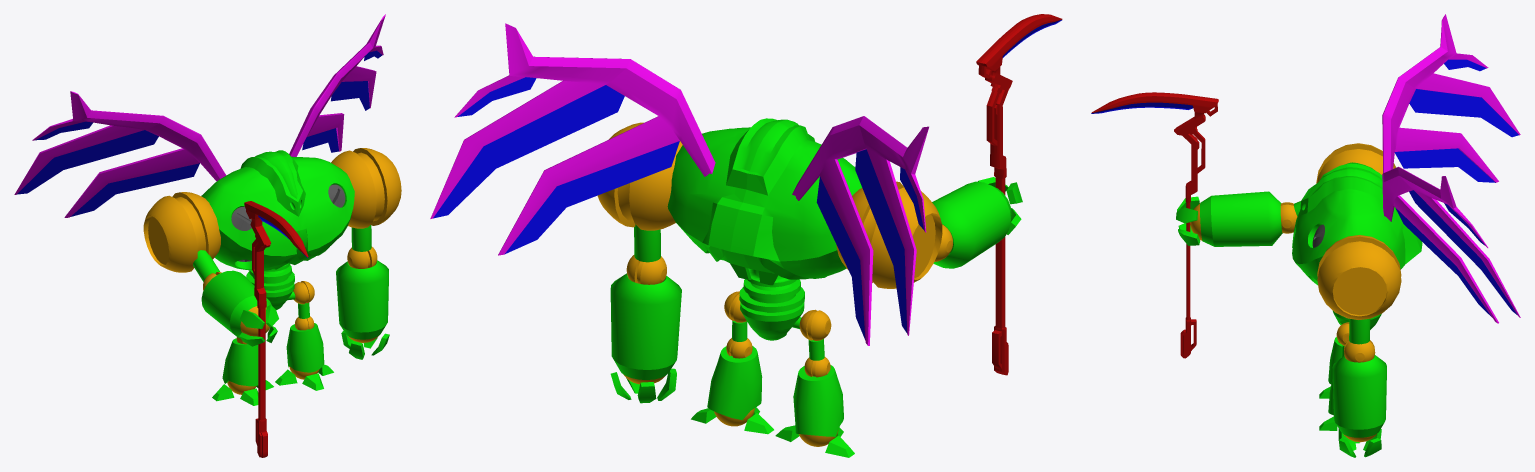
The model's file is Robot_ID2.fbx.
3 renders of one model, left to right at view 1: azimuth 30°, elevation 25°; view 2: azimuth 150°, elevation 25°; view 3: azimuth 270°, elevation 25°, orthographic. The views are drawn at different scales.
Visible parts, largest first — view 1: Torso_high, Right_wing_high, Right_joint_shoulder_high, Left_wing_high, Left_joint_shoulder_high, Left_shell_forearm_high, Staff_high, Right_shell_forearm_high, Left_shell_leg_calf_high, Right_shell_calf_high, Abdomen_high, Left_joint_elbow_high (+3 smaller); view 2: Left_wing_high, Torso_high, Right_wing_high, Left_shell_forearm_high, Staff_high, Right_shell_forearm_high, Right_joint_shoulder_high, Left_joint_shoulder_high, Abdomen_high, Left_shell_leg_calf_high, Right_shell_calf_high, Left_joint_elbow_high (+2 smaller); view 3: Right_wing_high, Torso_high, Left_wing_high, Left_joint_shoulder_high, Right_shell_forearm_high, Left_shell_forearm_high, Staff_high, Right_joint_shoulder_high, Left_joint_elbow_high, Left_shell_up_arm_high, Staff_balde_high, Right_joint_elbow_high.
Boxes of the visible parts, x1,y1,x2,y2 form: Torso_high: [201, 150, 354, 270]; Right_wing_high: [14, 91, 226, 217]; Right_joint_shoulder_high: [143, 192, 220, 272]; Left_wing_high: [289, 14, 385, 156]; Left_joint_shoulder_high: [331, 148, 401, 228]; Left_shell_forearm_high: [336, 260, 388, 339]; Staff_high: [244, 201, 308, 457]; Right_shell_forearm_high: [201, 270, 271, 338]; Left_shell_leg_calf_high: [286, 323, 324, 372]; Right_shell_calf_high: [222, 338, 258, 386]; Abdomen_high: [246, 263, 294, 309]; Left_joint_elbow_high: [347, 246, 377, 268]; Left_wing_high: [430, 23, 715, 255]; Torso_high: [667, 118, 862, 285]; Right_wing_high: [792, 116, 928, 345]; Left_shell_forearm_high: [610, 273, 681, 379]; Staff_high: [976, 14, 1062, 375]; Right_shell_forearm_high: [932, 181, 1011, 268]; Right_joint_shoulder_high: [836, 181, 942, 288]; Left_joint_shoulder_high: [597, 122, 682, 230]; Abdomen_high: [739, 268, 804, 340]; Left_shell_leg_calf_high: [707, 346, 762, 420]; Right_shell_calf_high: [793, 365, 843, 436]; Left_joint_elbow_high: [626, 255, 666, 284]; Right_wing_high: [1382, 14, 1520, 182]; Torso_high: [1292, 162, 1422, 285]; Left_wing_high: [1382, 166, 1520, 323]; Left_joint_shoulder_high: [1317, 235, 1401, 319]; Right_shell_forearm_high: [1200, 191, 1282, 246]; Left_shell_forearm_high: [1332, 355, 1386, 437]; Staff_high: [1091, 92, 1218, 358]; Right_joint_shoulder_high: [1316, 143, 1395, 183]; Left_joint_elbow_high: [1344, 340, 1375, 362]; Left_shell_up_arm_high: [1349, 318, 1370, 344]; Staff_balde_high: [1091, 102, 1193, 113]; Right_joint_elbow_high: [1280, 202, 1297, 233].
Bounding box in the file's own units: 6.48 × 5.24 × 6.43.
